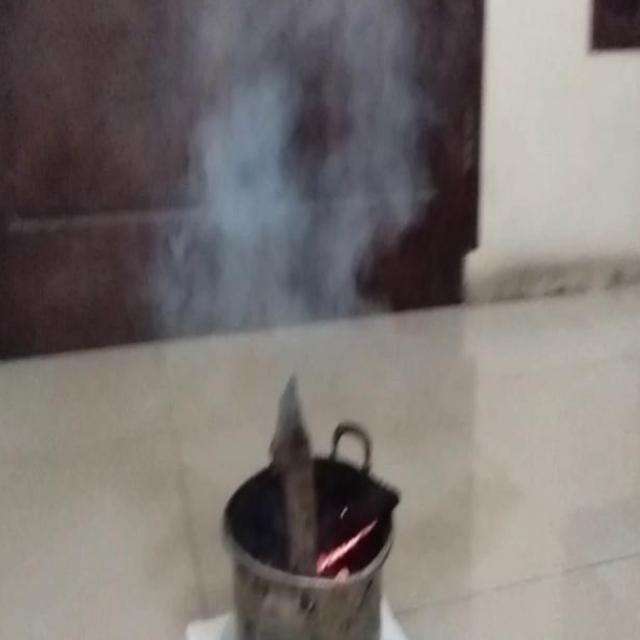fire: (185, 0, 428, 339)
